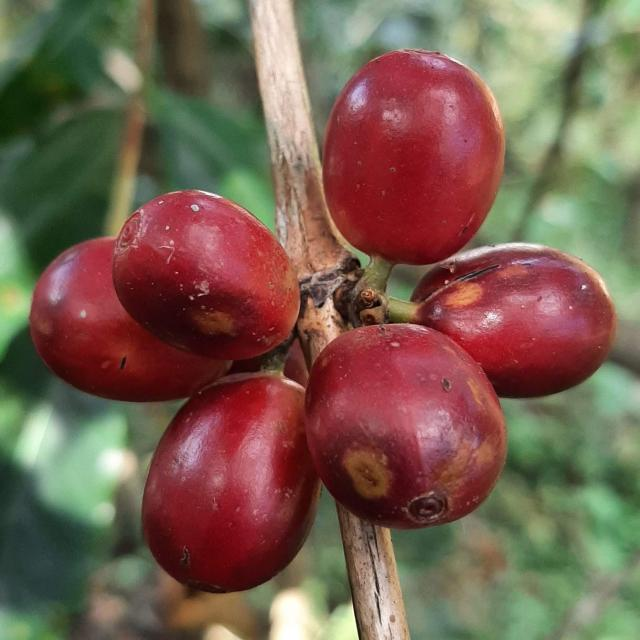red: (306, 324, 508, 530), (142, 373, 321, 594), (323, 49, 505, 264), (29, 237, 231, 402), (112, 190, 300, 360), (412, 243, 617, 398)
